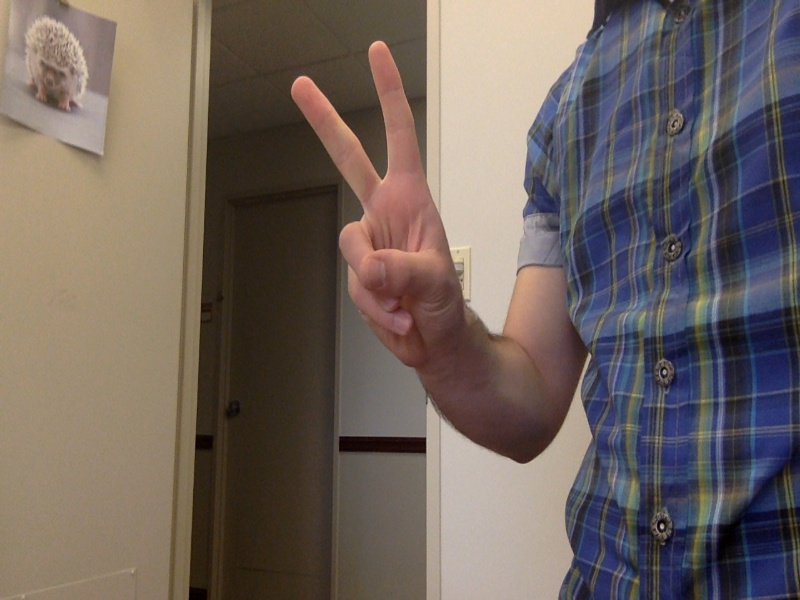2-hand: (290, 41, 474, 379)
